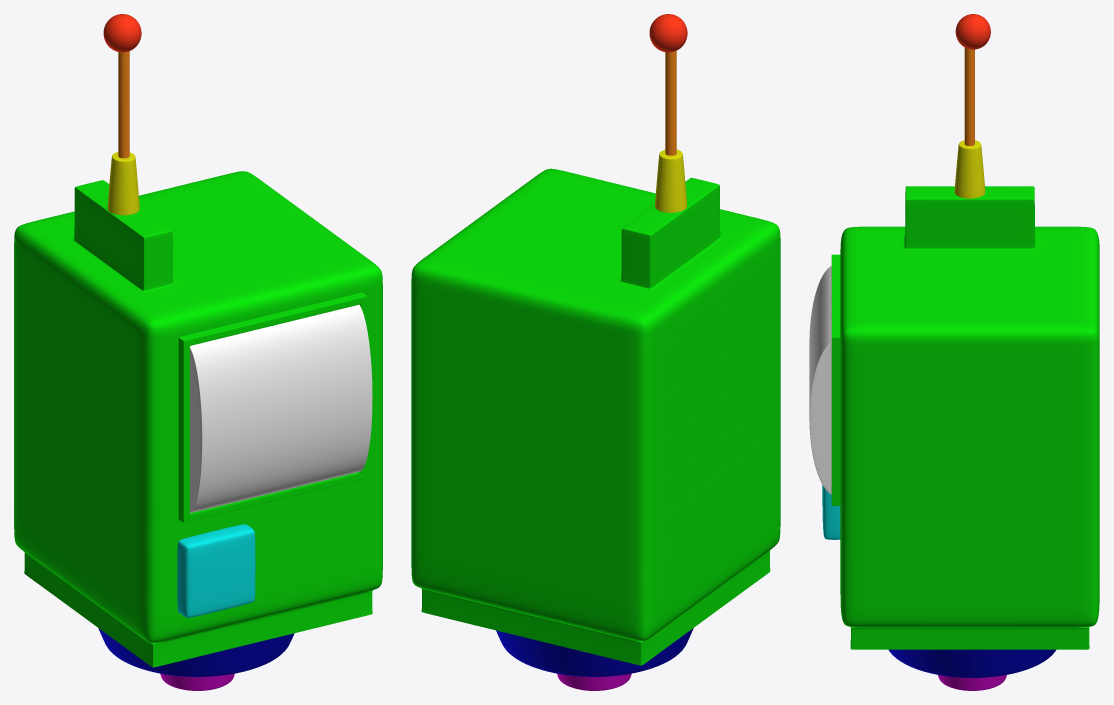
The picture shows the model from 3 angles, left to right: view 1: azimuth 30°, elevation 25°; view 2: azimuth 150°, elevation 25°; view 3: azimuth 270°, elevation 25°; orthographic projection. The views are drawn at different scales.
Parts seen in each view (by area): view 1: pCube1, pCylinder1, pCube2, pCylinder4, pCylinder2, pCylinder3, pSphere1, pasted__pCylinder4; view 2: pCube1, pCylinder4, pCylinder2, pCylinder3, pSphere1, pasted__pCylinder4; view 3: pCube1, pCylinder1, pCylinder4, pCylinder2, pCylinder3, pSphere1, pCube2, pasted__pCylinder4.
Boxes of the visible parts, x1=… form: pCube1: x1=14, y1=171, x2=382, y2=667; pCylinder1: x1=190, y1=304, x2=372, y2=512; pCube2: x1=177, y1=524, x2=255, y2=617; pCylinder4: x1=98, y1=628, x2=294, y2=676; pCylinder2: x1=107, y1=152, x2=139, y2=215; pCylinder3: x1=118, y1=51, x2=129, y2=158; pSphere1: x1=103, y1=14, x2=141, y2=52; pasted__pCylinder4: x1=160, y1=673, x2=234, y2=690; pCube1: x1=411, y1=168, x2=780, y2=665; pCylinder4: x1=496, y1=628, x2=693, y2=676; pCylinder2: x1=655, y1=149, x2=687, y2=212; pCylinder3: x1=665, y1=51, x2=676, y2=155; pSphere1: x1=649, y1=14, x2=687, y2=52; pasted__pCylinder4: x1=557, y1=673, x2=631, y2=690; pCube1: x1=831, y1=186, x2=1099, y2=649; pCylinder1: x1=809, y1=266, x2=831, y2=494; pCylinder4: x1=888, y1=649, x2=1055, y2=677; pCylinder2: x1=954, y1=140, x2=985, y2=198; pCylinder3: x1=964, y1=47, x2=974, y2=145; pSphere1: x1=955, y1=14, x2=990, y2=49; pCube2: x1=822, y1=485, x2=840, y2=539; pasted__pCylinder4: x1=938, y1=675, x2=1006, y2=690.
Size of the model in its own units: 3.41 by 9.24 by 3.87.
